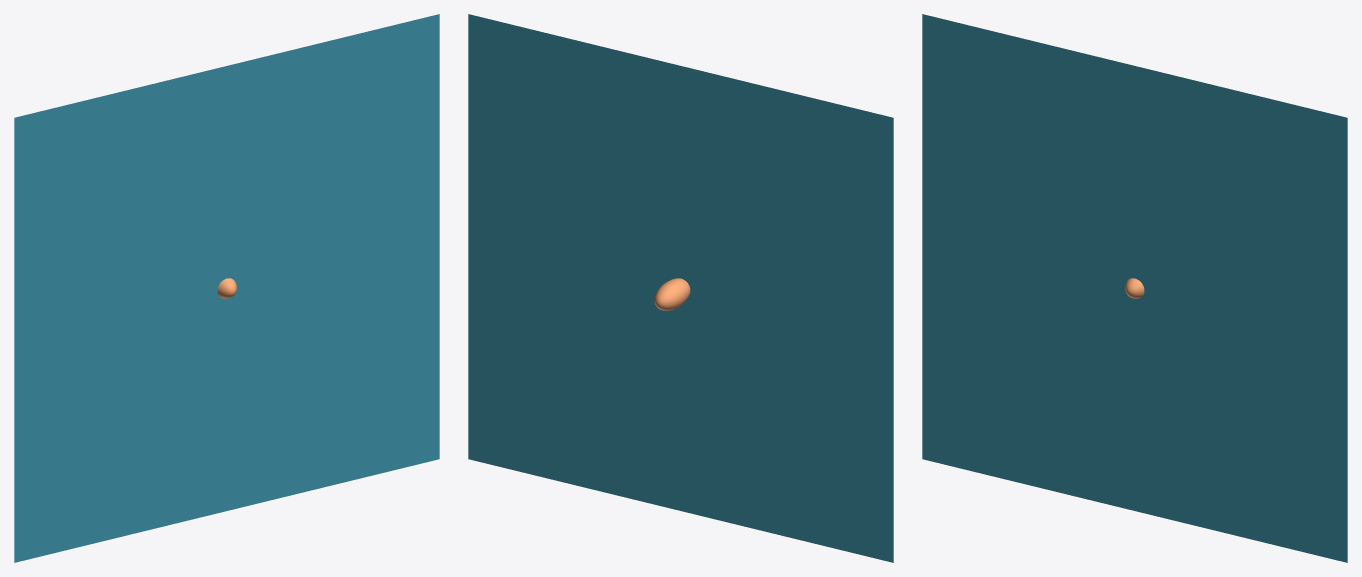
The model's file is simple_023_Expressions_00.dae.
The picture shows the model from 3 angles, left to right: view 1: azimuth 30°, elevation 25°; view 2: azimuth 150°, elevation 25°; view 3: azimuth 330°, elevation 25°; orthographic projection.
Visible parts, largest first — view 1: pPlane1; view 2: pPlane1, obj; view 3: pPlane1.
Part boxes in pixels (box(x1,y1,x2,y2)): pPlane1: box(14, 14, 439, 562); pPlane1: box(468, 14, 893, 562); obj: box(654, 278, 690, 310); pPlane1: box(922, 14, 1347, 562).
Size of the model in its own units: 35.55 by 4 by 35.55.
